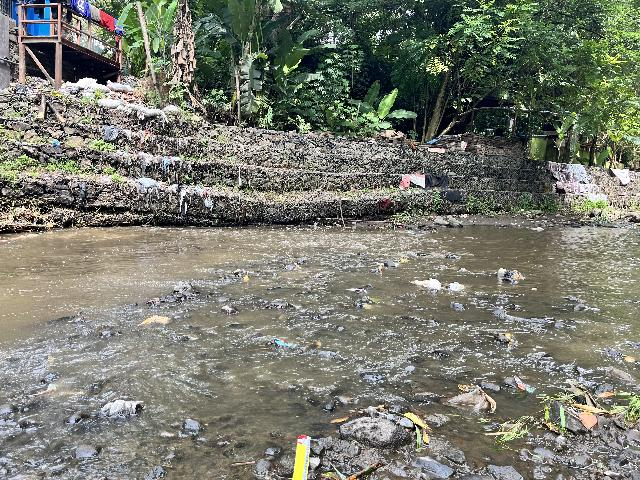Sampah Anorganik: (446, 387, 499, 414), (294, 434, 310, 480), (267, 333, 292, 349), (409, 277, 441, 289), (514, 377, 535, 395), (343, 287, 368, 296), (449, 281, 465, 290), (397, 256, 413, 264), (314, 274, 321, 277)
Sampah Organik: (542, 379, 640, 433), (333, 406, 434, 447), (494, 264, 531, 288), (19, 387, 64, 395), (141, 314, 169, 326), (494, 330, 516, 345), (360, 297, 383, 310), (304, 339, 322, 349), (622, 353, 636, 364), (228, 461, 254, 466), (144, 296, 161, 303), (292, 262, 302, 270), (278, 303, 290, 309), (241, 275, 250, 282), (376, 265, 382, 272)
